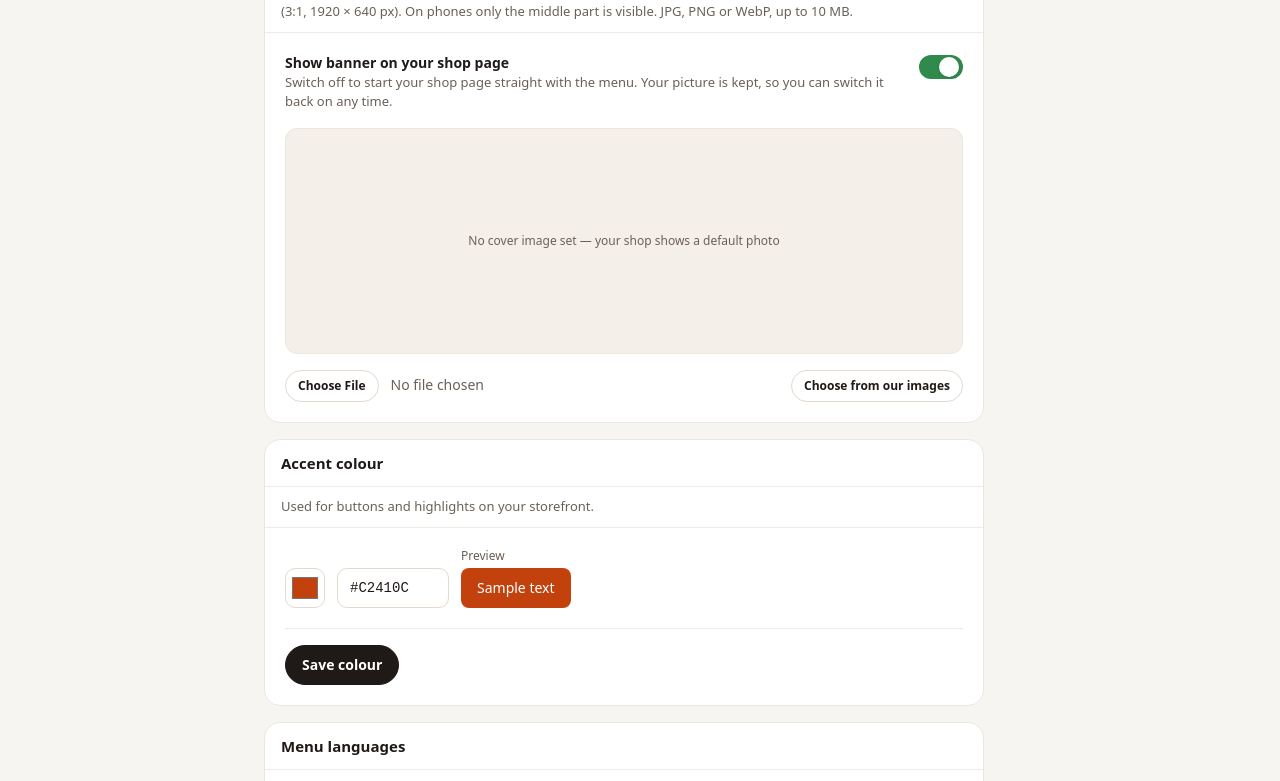
Test case: ShopSettingsPage sections › shows "Choose from our images" when the library has images and opens the gallery
(page scrolled)
Click the button "Choose from our images" at (877, 386), box [791,370,963,402]
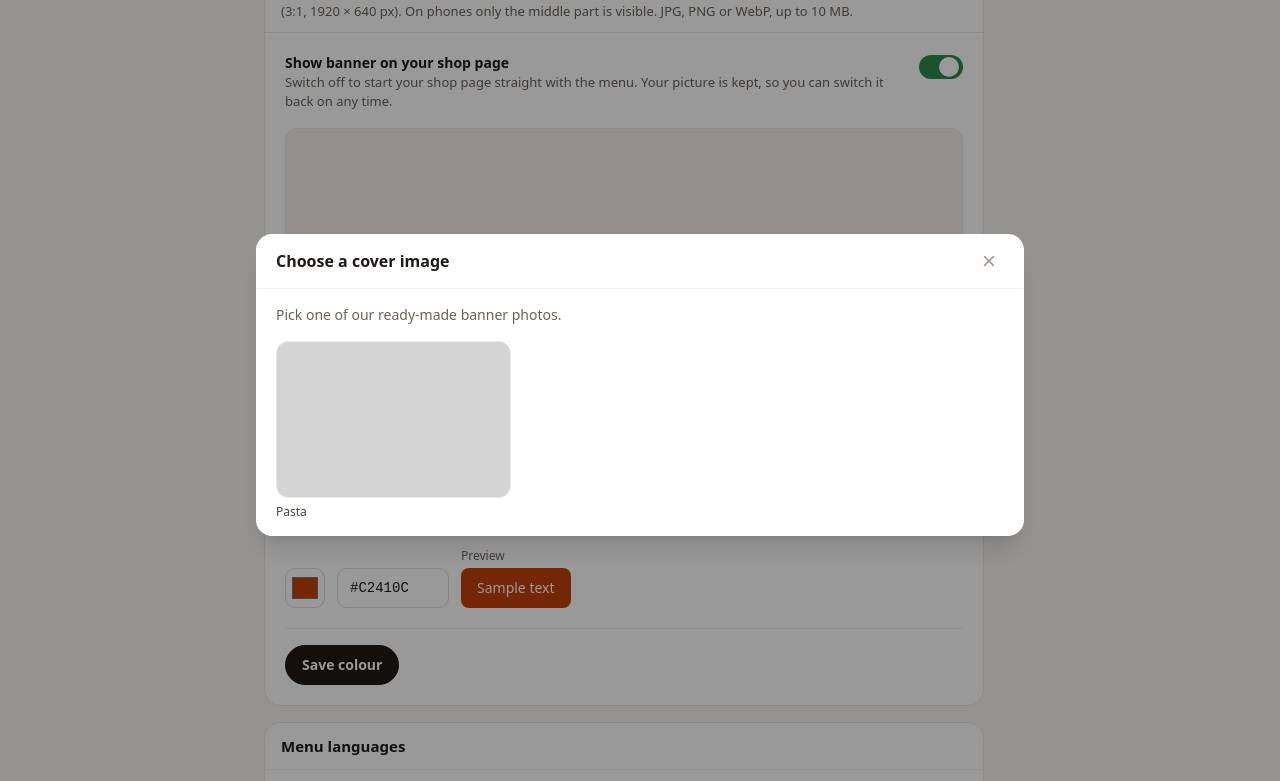
Now the dialog "Choose a cover image" is shown, box [256,234,1024,536]
